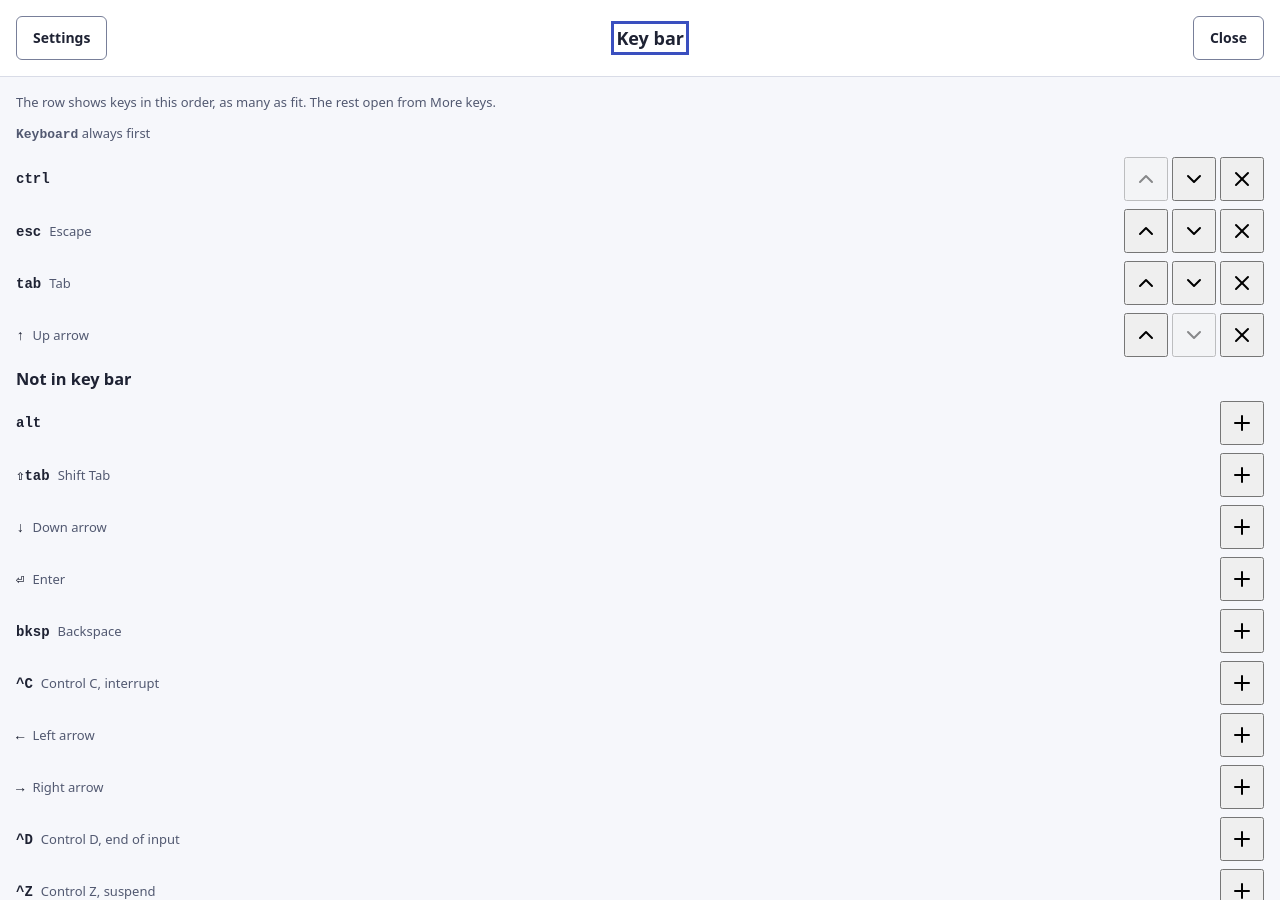
KeyBarEditor › reports a save failure in the status
This screenshot has width=1280, height=900.
Click the button named "Move ctrl down" at (1194, 179), box left=1172, top=157, right=1216, bottom=201
(page scrolled)
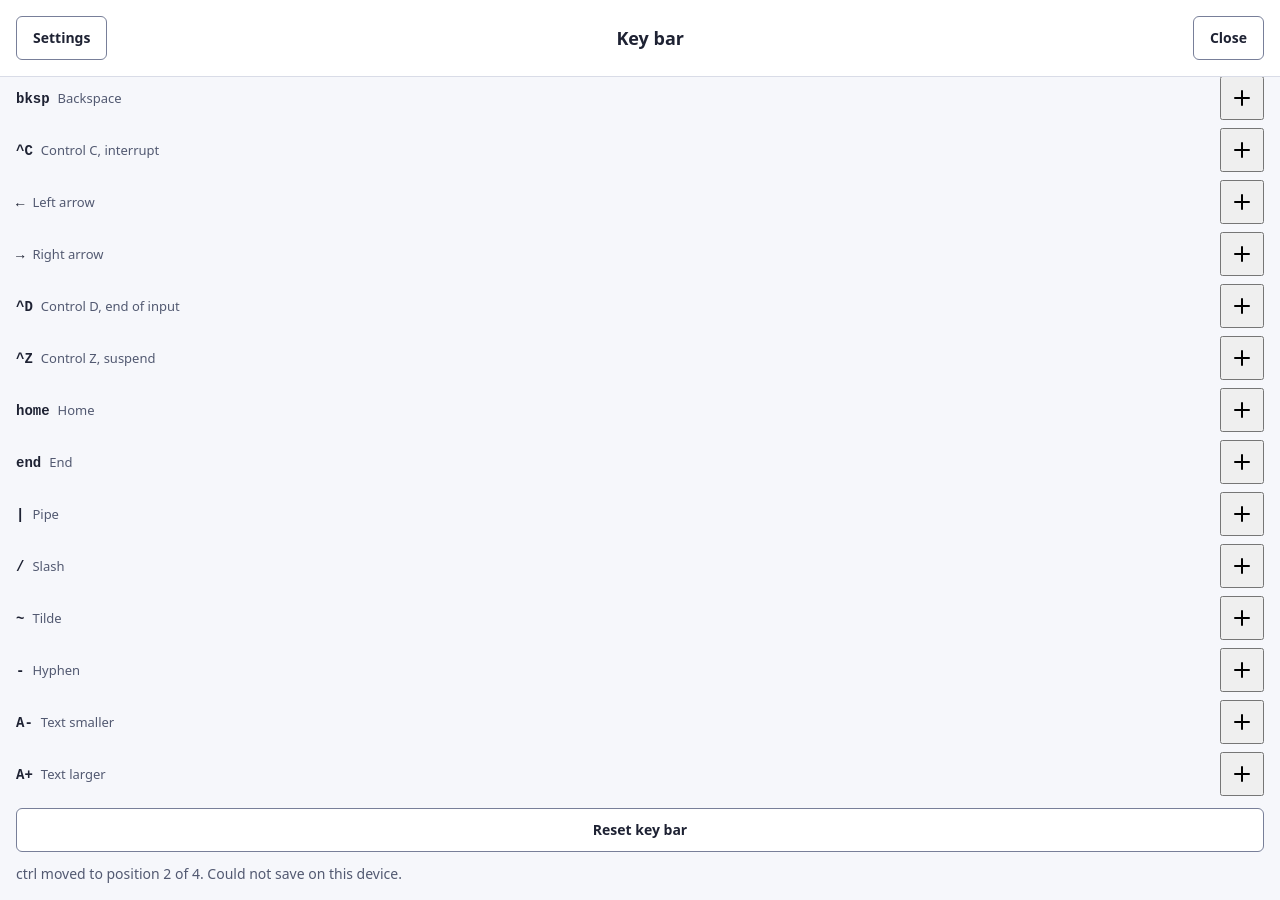
Now the message shows "Could not save on this device.", box left=16, top=864, right=402, bottom=883
